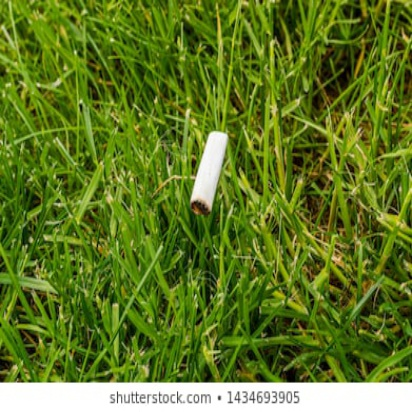cigarette: (190, 124, 229, 220)
